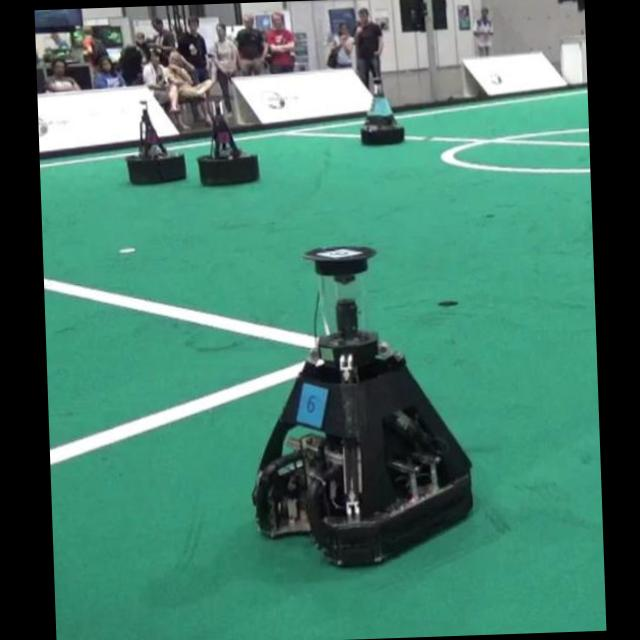robot: (253, 245, 473, 566), (197, 100, 258, 185), (125, 101, 184, 184), (361, 77, 404, 143)
